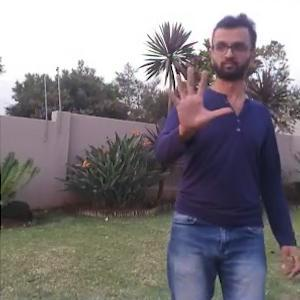follow_hand: (162, 64, 234, 134)
